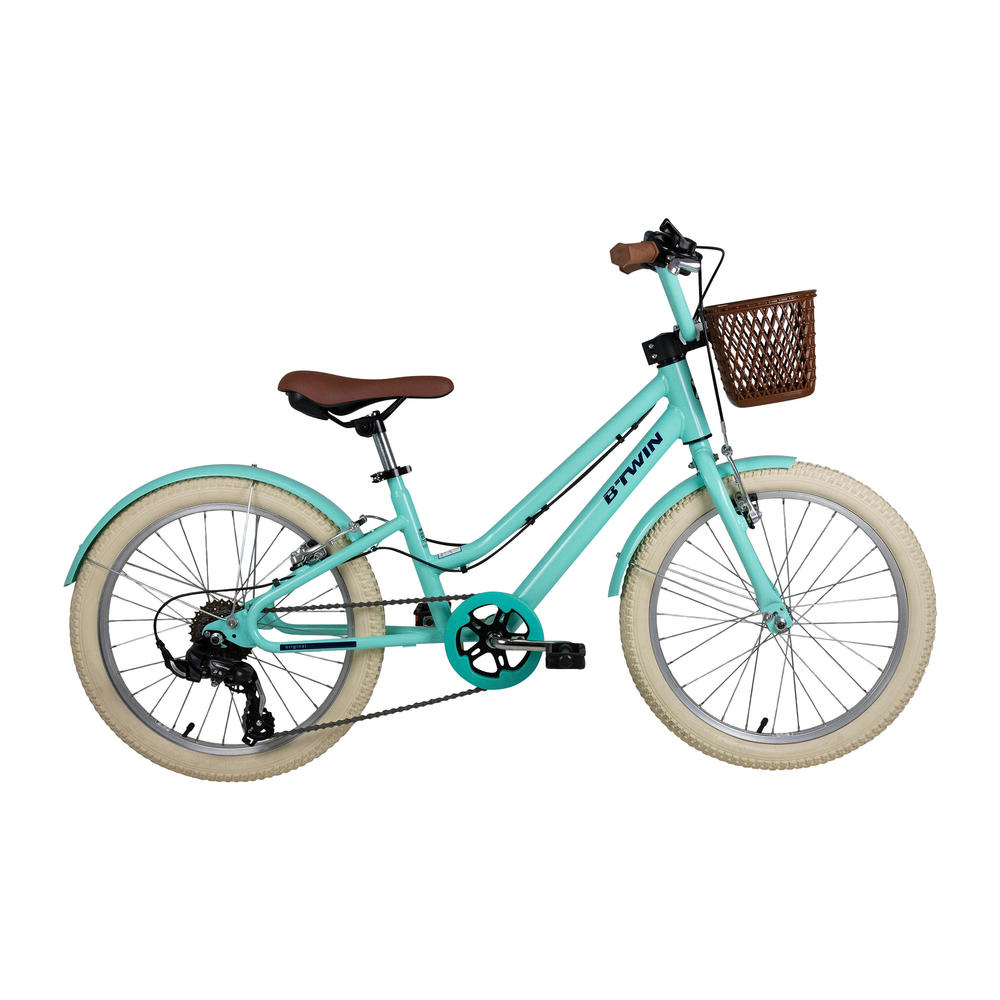RoadBike: (7, 183, 582, 688), (287, 178, 809, 690)
